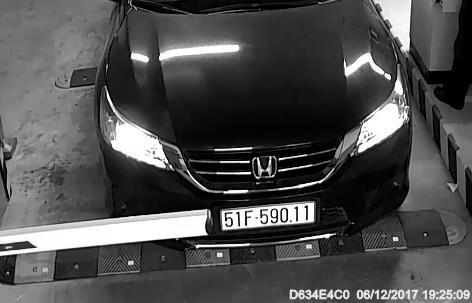License-plate: (212, 196, 325, 232)
